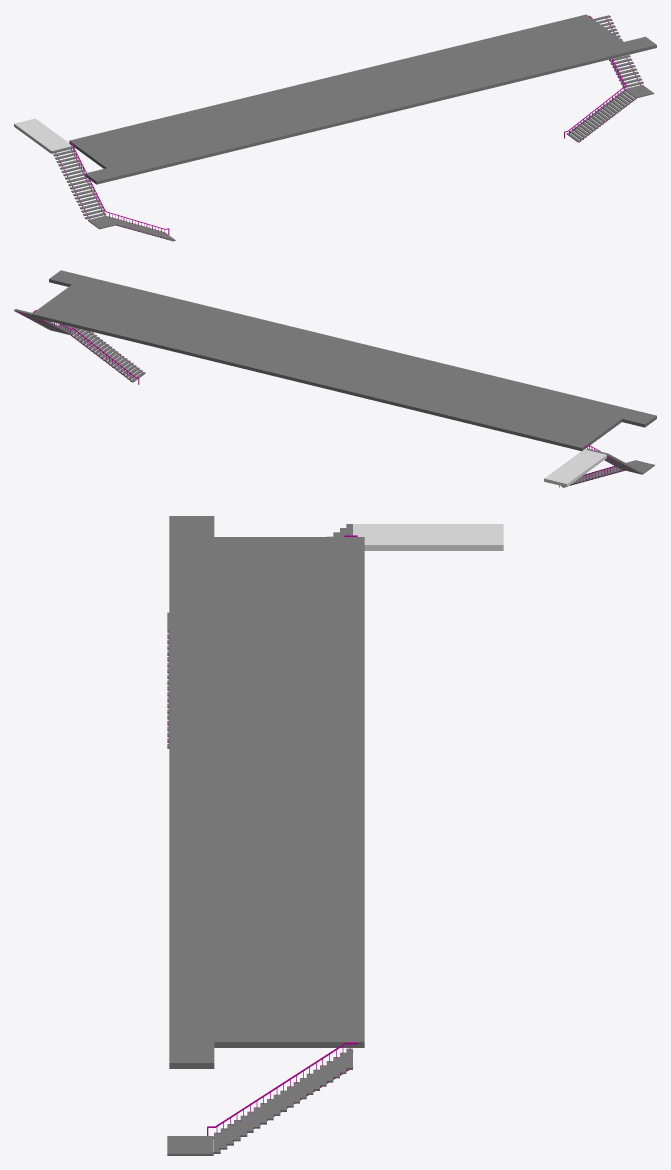
File: Floor1Outer.fbx
3 renders of one model, top to bottom at view 1: azimuth 30°, elevation 25°; view 2: azimuth 150°, elevation 25°; view 3: azimuth 270°, elevation 25°, orthographic. The views are drawn at different scales.
Parts seen in each view (by area): view 1: Plane010, Box059, Box037, Box061, Loft002, Box058; view 2: Plane010, Box037, Box061, Box059, Loft002; view 3: Plane010, Box061, Box059, Box058.
Boxes of the visible parts, x1,y1,x2,y2 form: Plane010: (69,14,656,184); Box059: (51,15,643,219); Box037: (108,91,635,241); Box061: (14,118,72,153); Loft002: (55,15,640,240); Box058: (88,84,654,229); Plane010: (32,270,656,451); Box037: (72,329,632,487); Box061: (544,449,606,487); Box059: (14,309,643,474); Loft002: (17,310,628,487); Plane010: (169,516,364,1068); Box061: (353,524,503,550); Box059: (214,524,352,1153); Box058: (167,612,213,1155).
Size of the model in its own units: 195 by 26.76 by 50.77.
